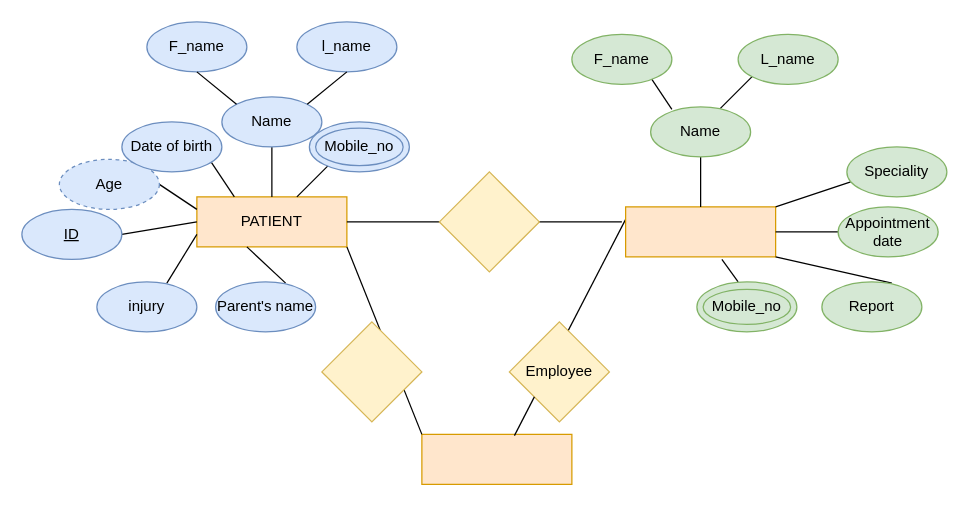
This 969x506 diagram has some shape labels left out. The centre of each missing label's shape, as x and y in pixels:
"Customer" belongs at pixel 371 371.
"Doctor" belongs at pixel 700 231.
"Hospital" belongs at pixel 496 458.
"TREATMENT" belongs at pixel 488 221.
